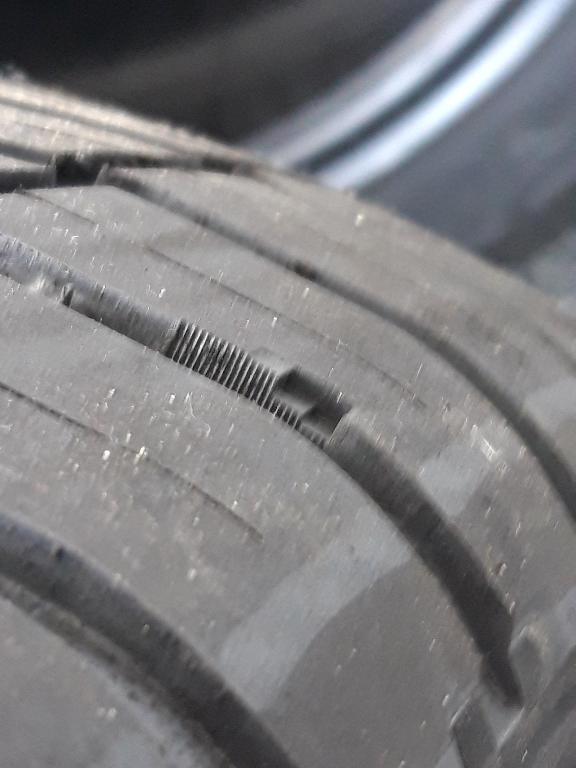temoin:50: (229, 343, 362, 458)
